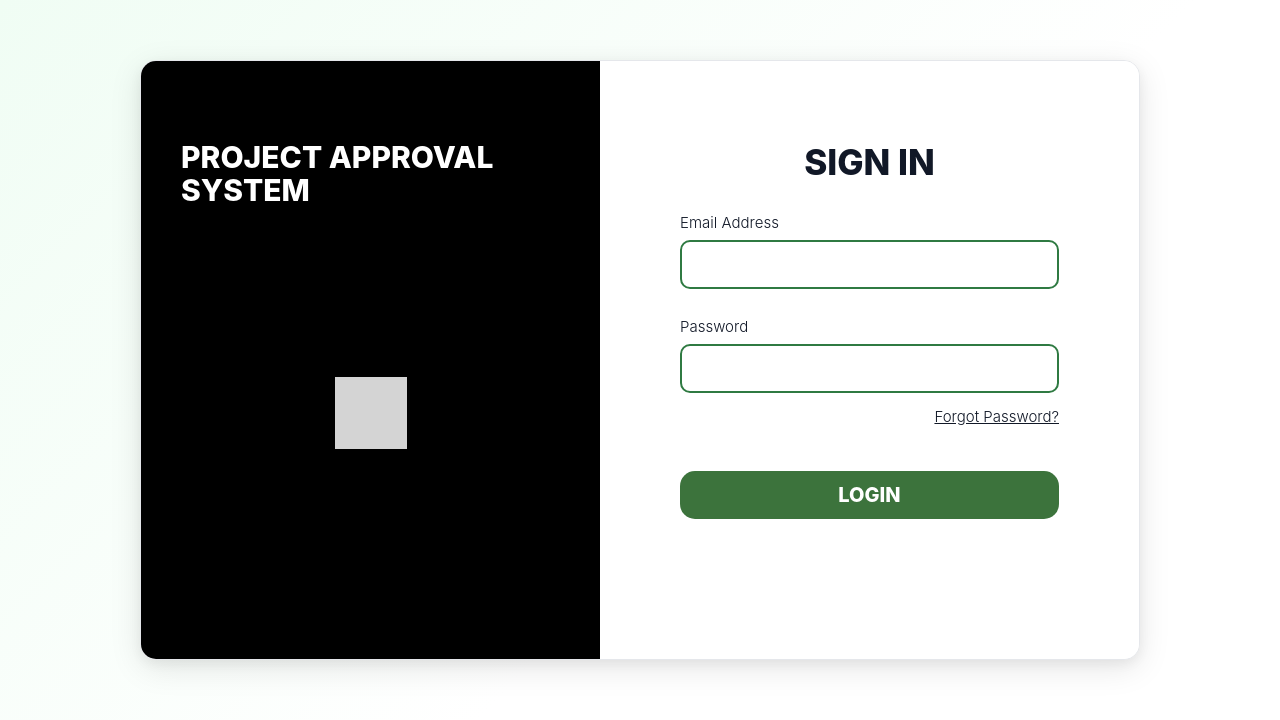
Test: LoginPage › Form Validation › should show error when both fields are empty
Click the button "LOGIN": (870, 495) [680,471,1059,519]
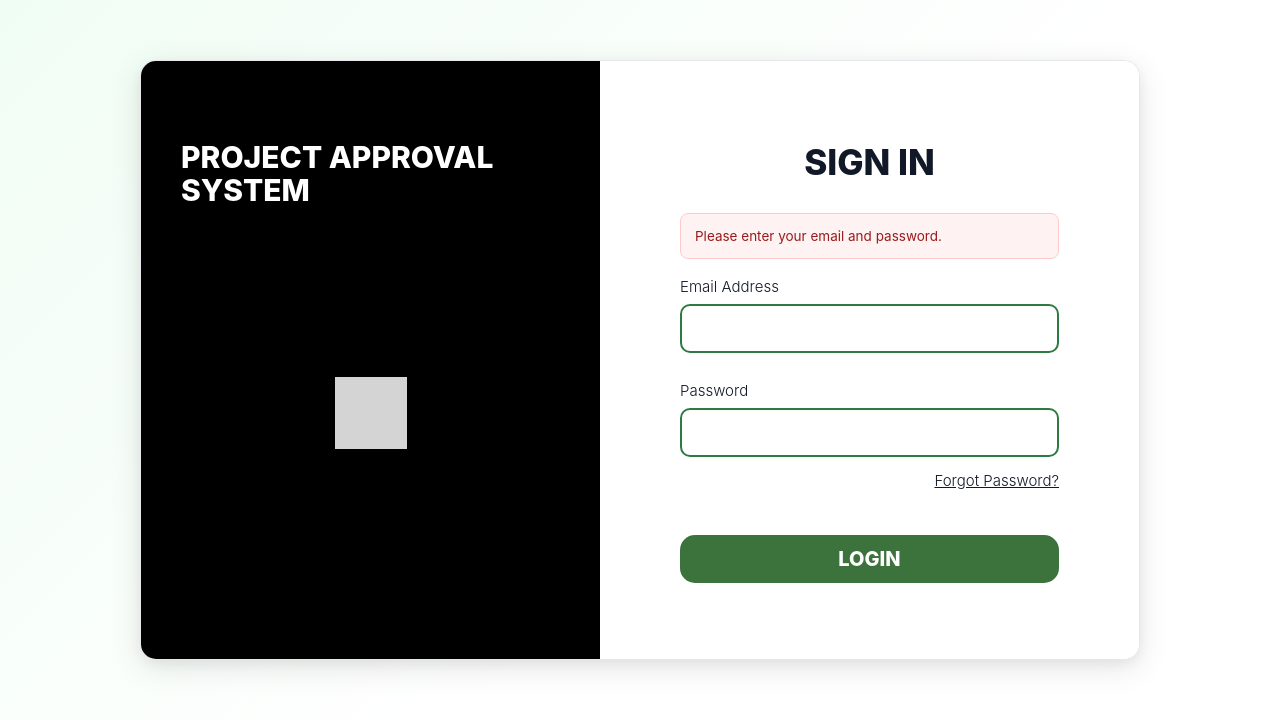
expect the text "Please enter your email and password." is shown: met, box [680,213,1059,259]
